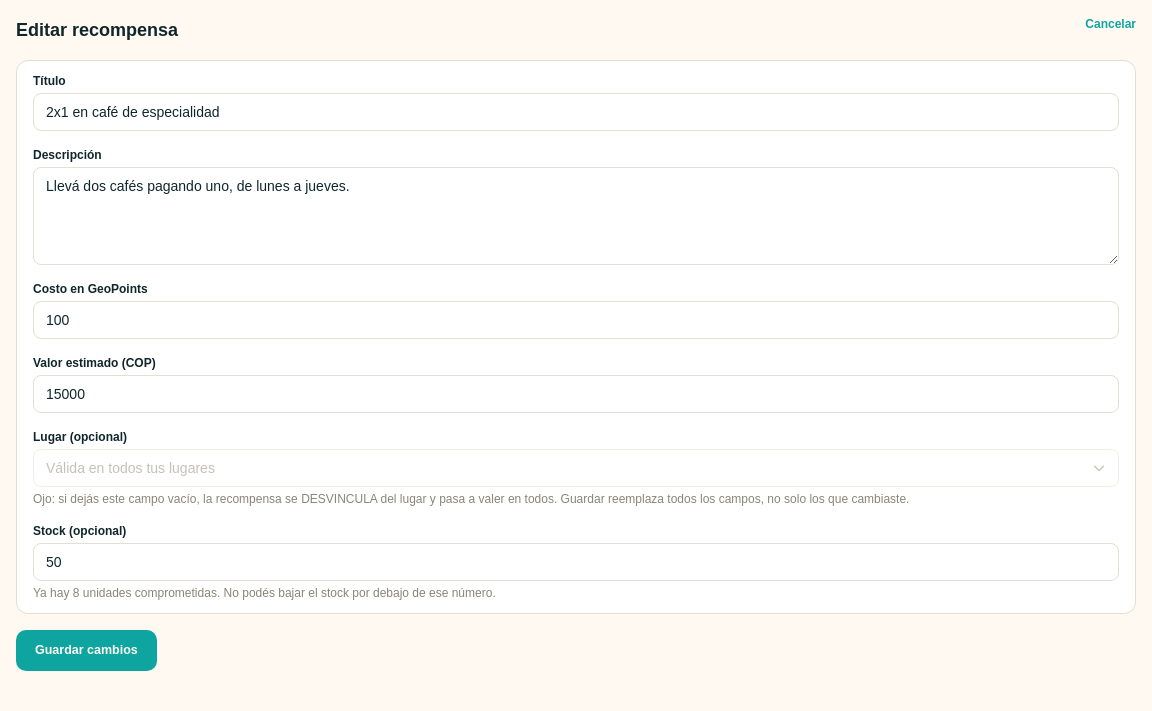
Test: RewardEditPage › un 409 de concurrencia ofrece RECARGAR, no reintentar a ciegas
Expected: the field labelled "Título" is shown, [33,93,1119,131]
Click the button "Guardar cambios" at (86, 650), box [16,630,157,671]
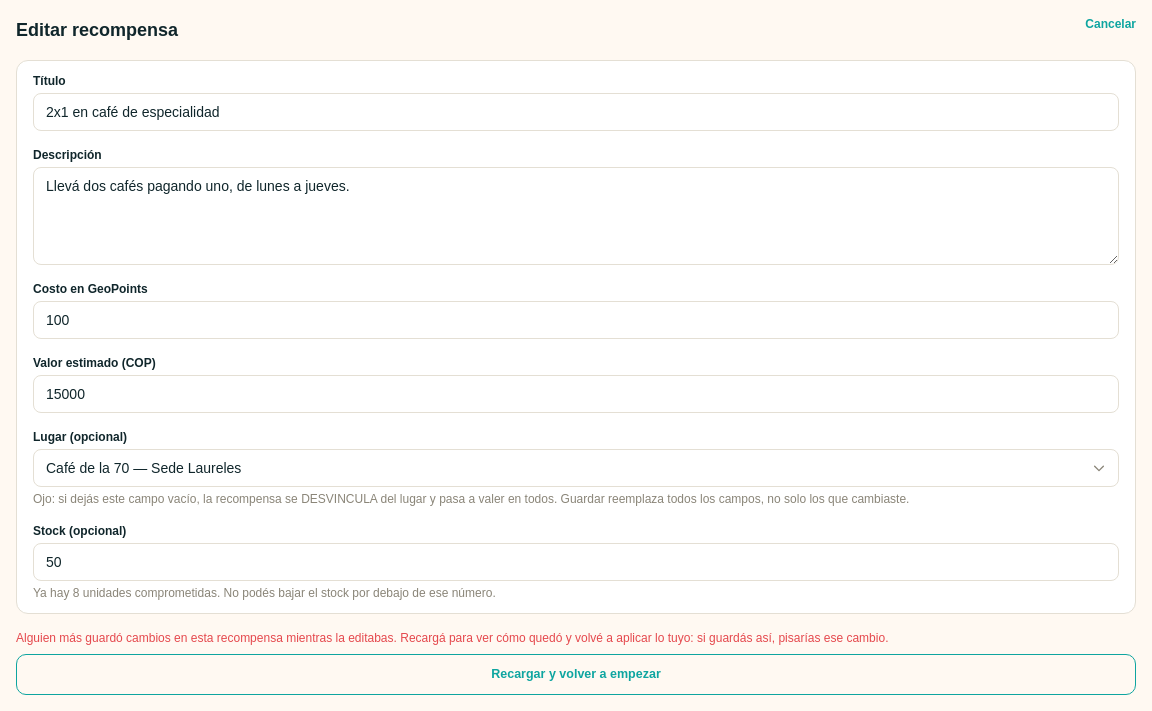
Expected: the message shows "Alguien más guardó cambios", [16,631,888,645]
Expected: the button "Recargar y volver a empezar" is shown, [16,654,1136,695]
